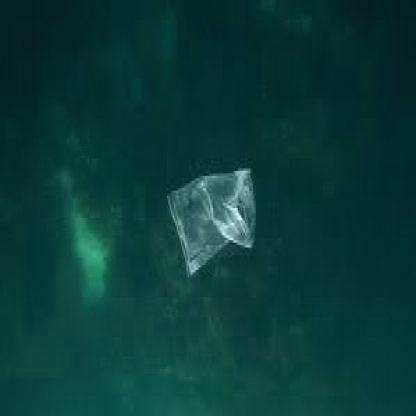pbag: (166, 166, 256, 277)
